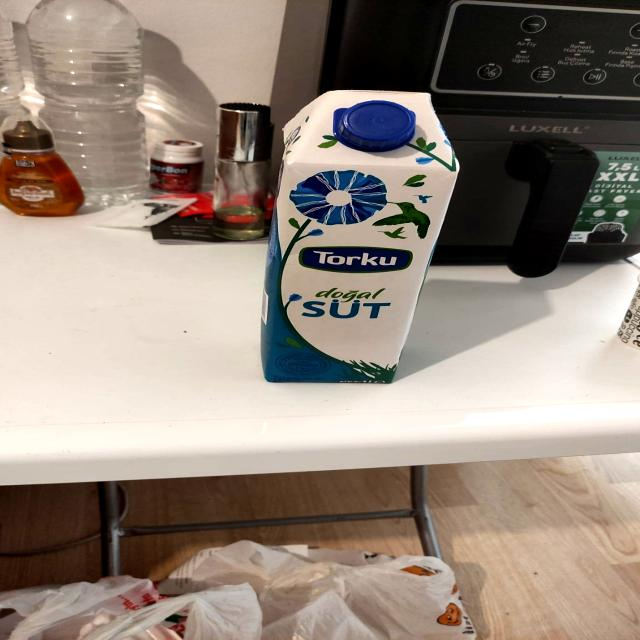milk: (250, 90, 481, 386)
